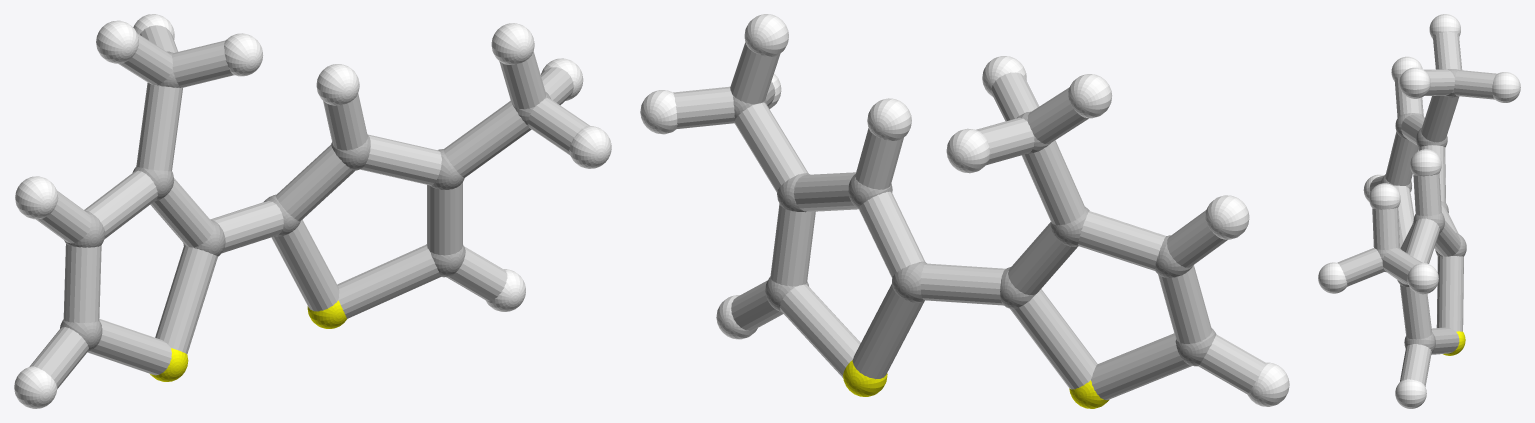
File: Methylthiophene_Phi_30_Theta_200_Methylthiophene.glb
The picture shows the model from 3 angles, left to right: view 1: azimuth 30°, elevation 25°; view 2: azimuth 150°, elevation 25°; view 3: azimuth 270°, elevation 25°; orthographic projection. The views are drawn at different scales.
Parts seen in each view (by area): view 1: grp7965, grp3621, grp1, grp7241; view 2: grp7965, grp3621, grp1, grp7241; view 3: grp7965, grp3621, grp1, grp7241.
Boxes of the visible parts, x1,y1,x2,y2 form: grp7965: (29, 25, 589, 389); grp3621: (14, 14, 611, 408); grp1: (60, 51, 550, 351); grp7241: (150, 300, 346, 381); grp7965: (673, 42, 1265, 400); grp3621: (640, 14, 1289, 406); grp1: (733, 96, 1216, 366); grp7241: (843, 360, 1109, 408); grp7965: (1337, 32, 1496, 386); grp3621: (1318, 14, 1520, 408); grp1: (1377, 69, 1466, 352); grp7241: (1443, 331, 1465, 355).
Size of the model in its own units: 9.51 by 5.5 by 3.85.
